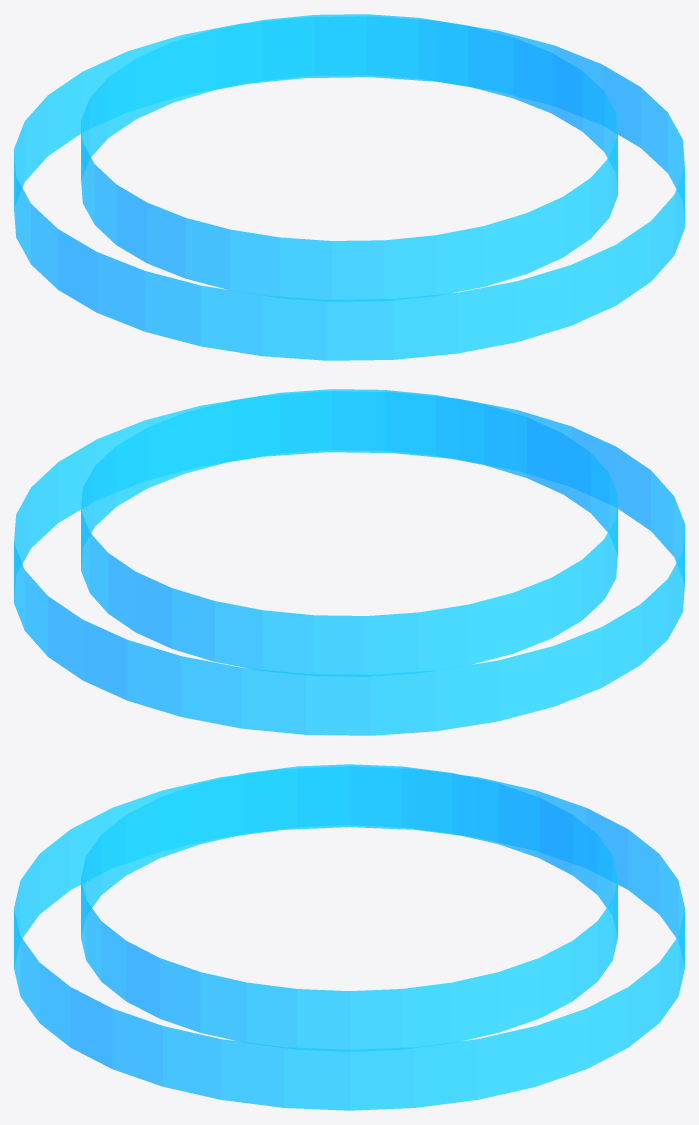
File: teleport_marker.glb
3 views of the same model, one above another, from view 1: azimuth 30°, elevation 25°; view 2: azimuth 150°, elevation 25°; view 3: azimuth 270°, elevation 25° (orthographic).
Parts seen in each view (by area): view 1: teleport_marker, teleport_marker.001; view 2: teleport_marker, teleport_marker.001; view 3: teleport_marker, teleport_marker.001.
Part boxes in pixels (bbox=[...]): teleport_marker: bbox=[14, 17, 684, 360]; teleport_marker.001: bbox=[81, 14, 617, 301]; teleport_marker: bbox=[14, 392, 684, 735]; teleport_marker.001: bbox=[81, 389, 617, 676]; teleport_marker: bbox=[14, 767, 684, 1110]; teleport_marker.001: bbox=[81, 764, 617, 1051].
Size of the model in its own units: 2 by 0.3 by 2.
